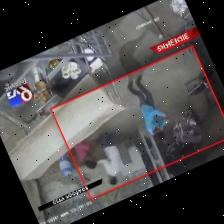person: (128, 74, 168, 140), (97, 132, 120, 184), (74, 140, 96, 168)
